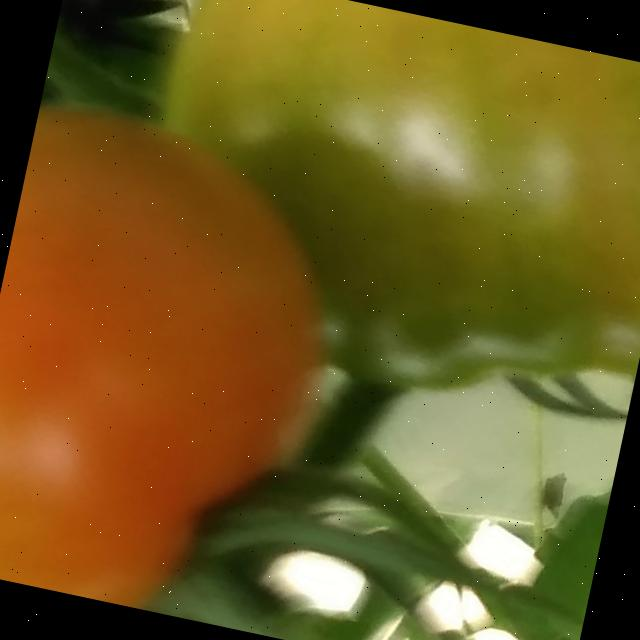tomato: (229, 0, 640, 396)
